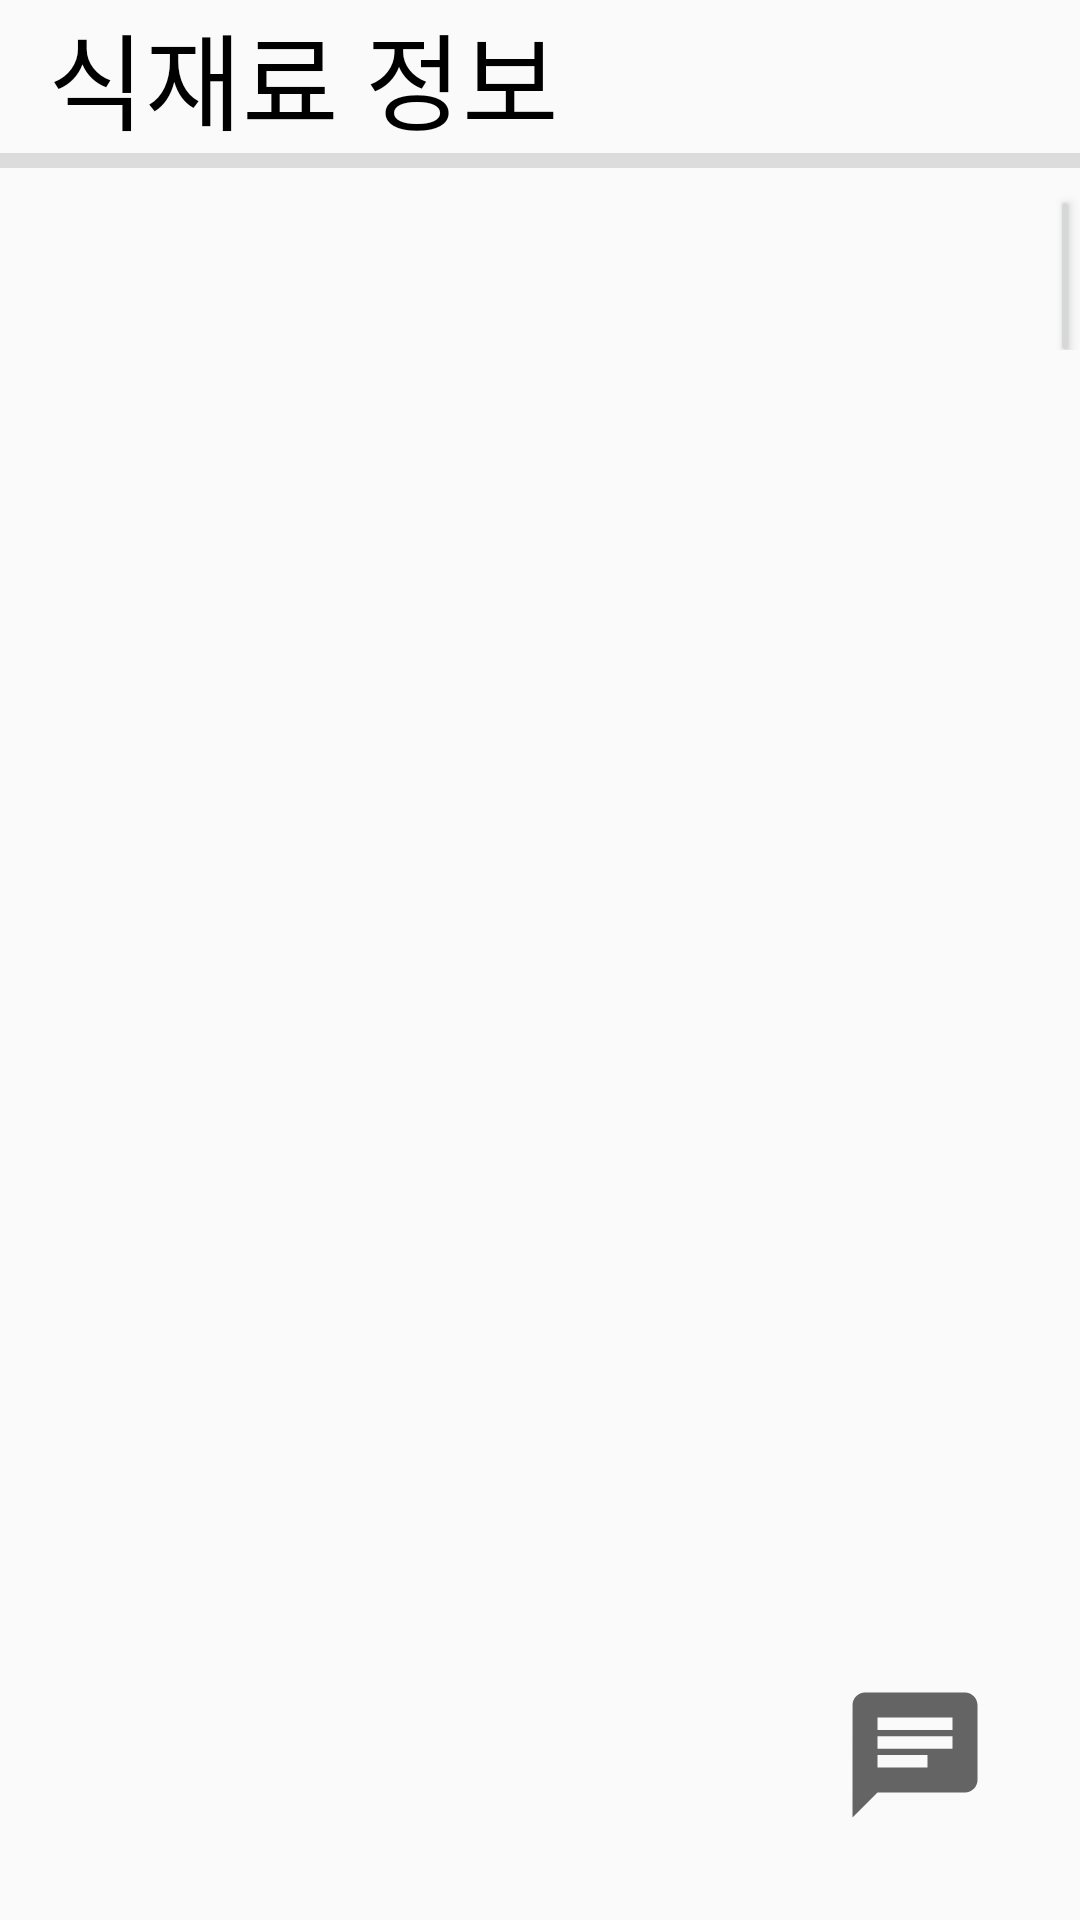

Icon bounding boxes for this 1080×1920 phone screenshot, format BBox(x1, y1, x2, y2):
chat: BBox(852, 1692, 978, 1817)
